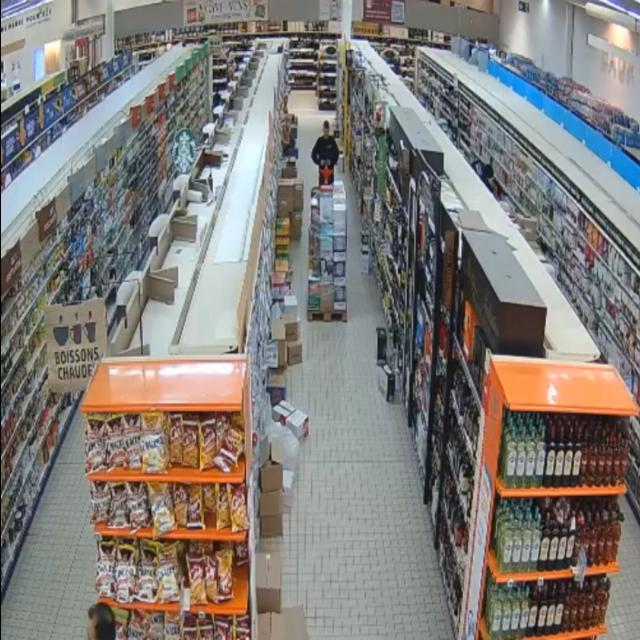hands: (320, 160, 329, 168), (323, 160, 332, 168)
person: (312, 121, 339, 186)
